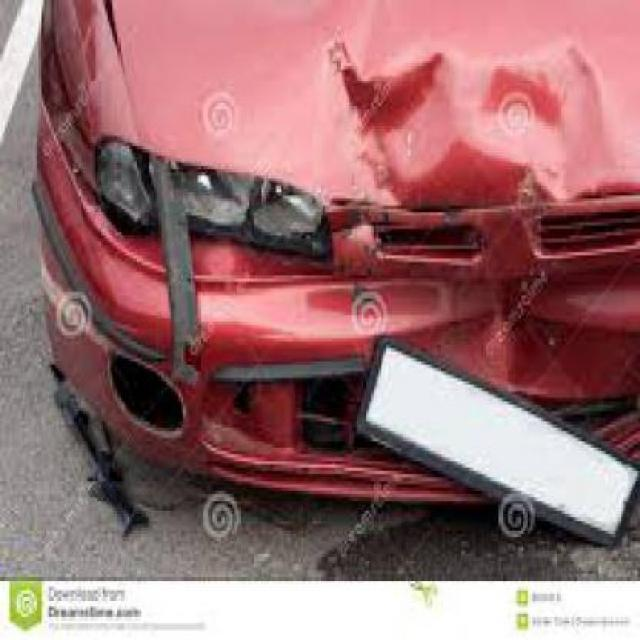damaged-hood: (110, 0, 638, 220)
